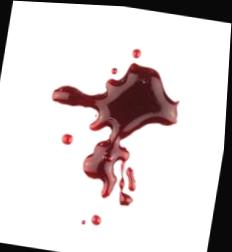Fire: (51, 61, 180, 206), (127, 166, 137, 191), (92, 213, 104, 225), (62, 133, 74, 145), (131, 47, 141, 58)
